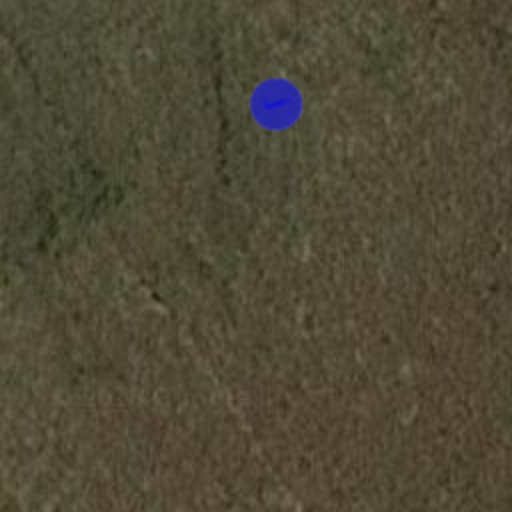circle: (242, 70, 310, 138)
